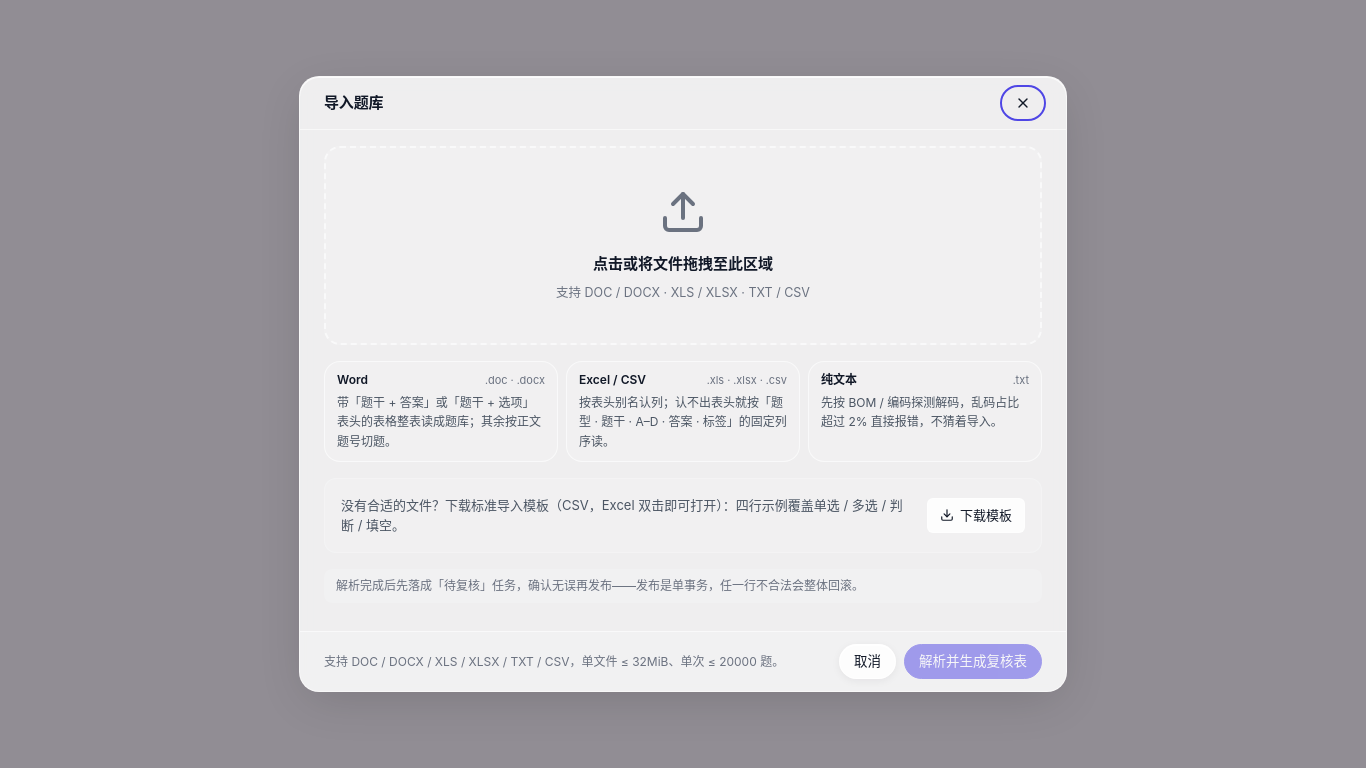
导入向导：解析 → 复核 → 发布 › 复核表按页取行，默认只看有问题
Click the button with aria-label "选择题库文件".
click(683, 212)  # box [324,146,1042,345]
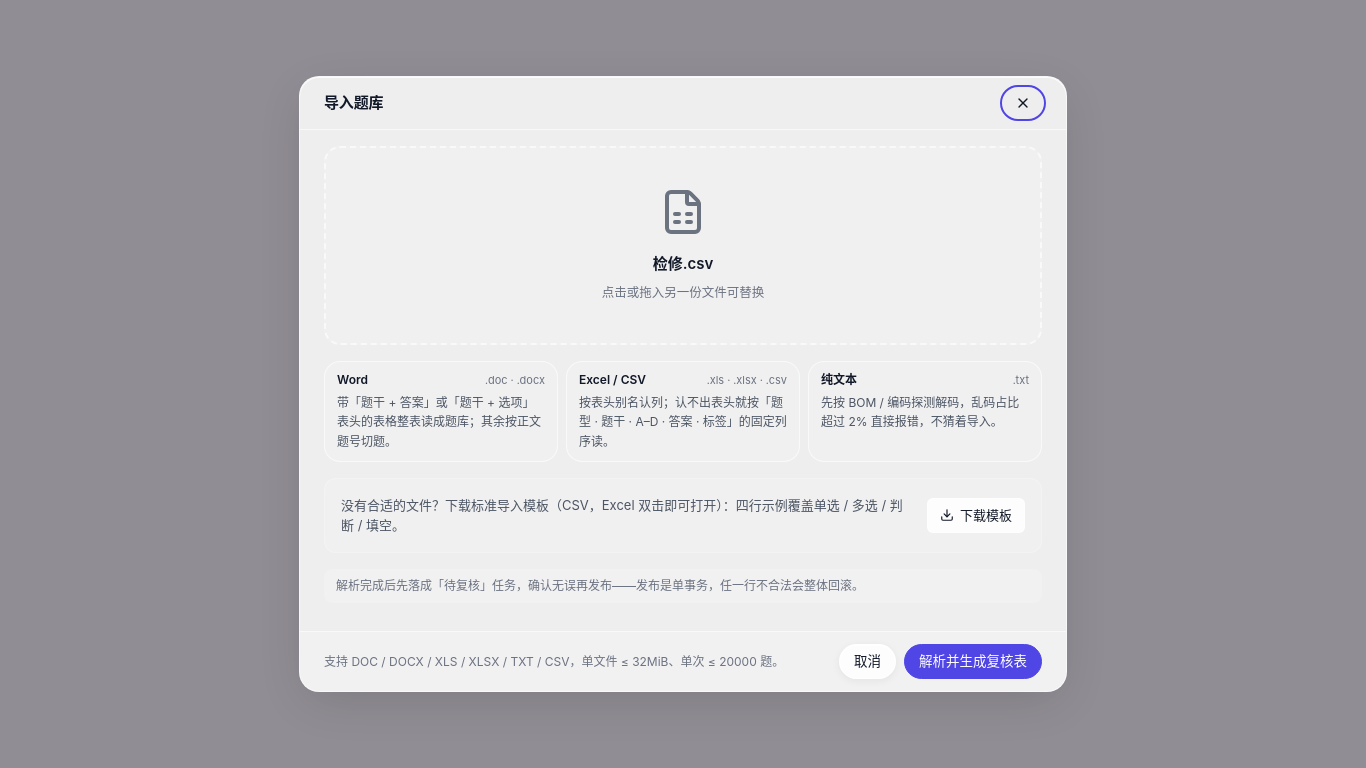
Expected: the text "检修.csv" is shown, [653,254,713,273]
Click the button "解析并生成复核表".
click(973, 662)  # box [904,644,1042,679]
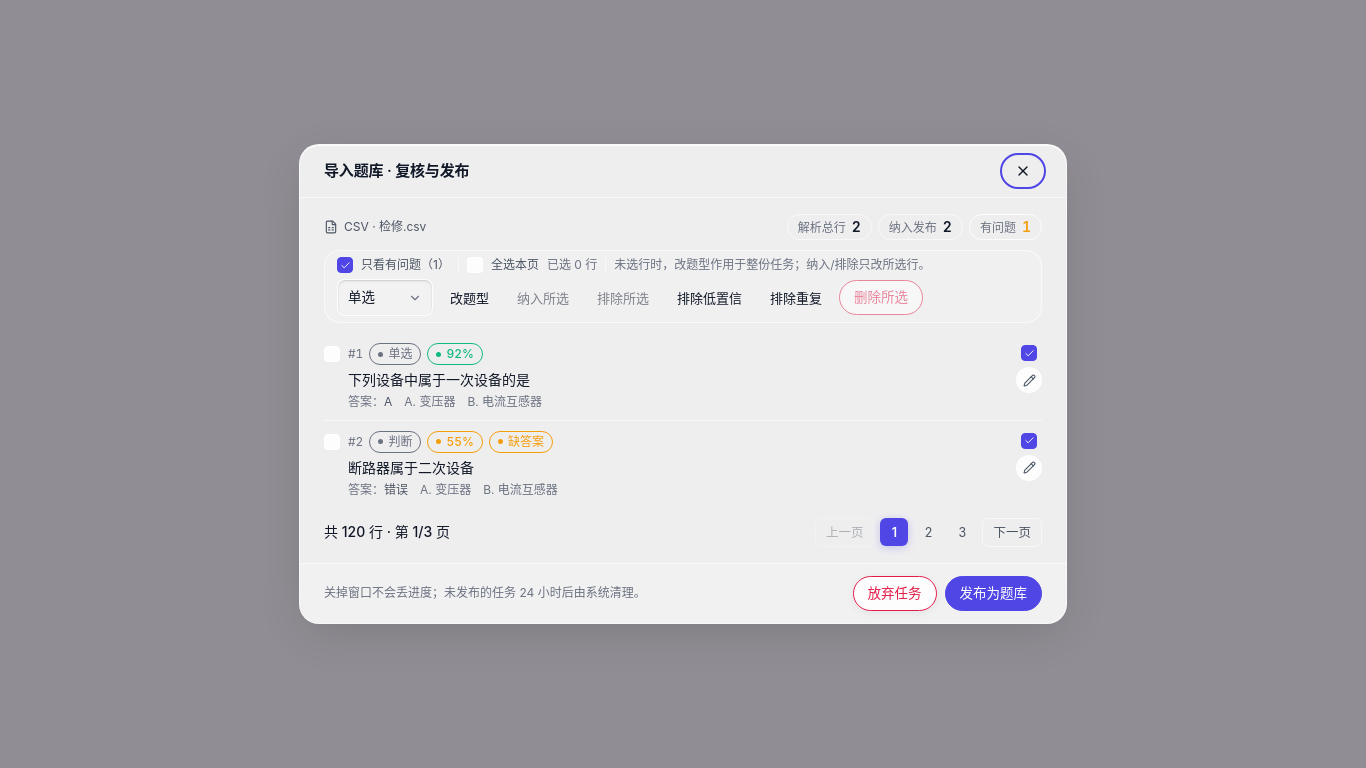
Expected: the text "解析总行" is shown, [798,220,846,236]
Expected: the navigation bar named "复核表分页" is shown, [815,518,1042,547]
Expected: the text "共 120 行 · 第 1/3 页" is shown, [324,521,450,543]
Click the button named "第 2 页".
click(928, 532)  # box [914,518,942,546]
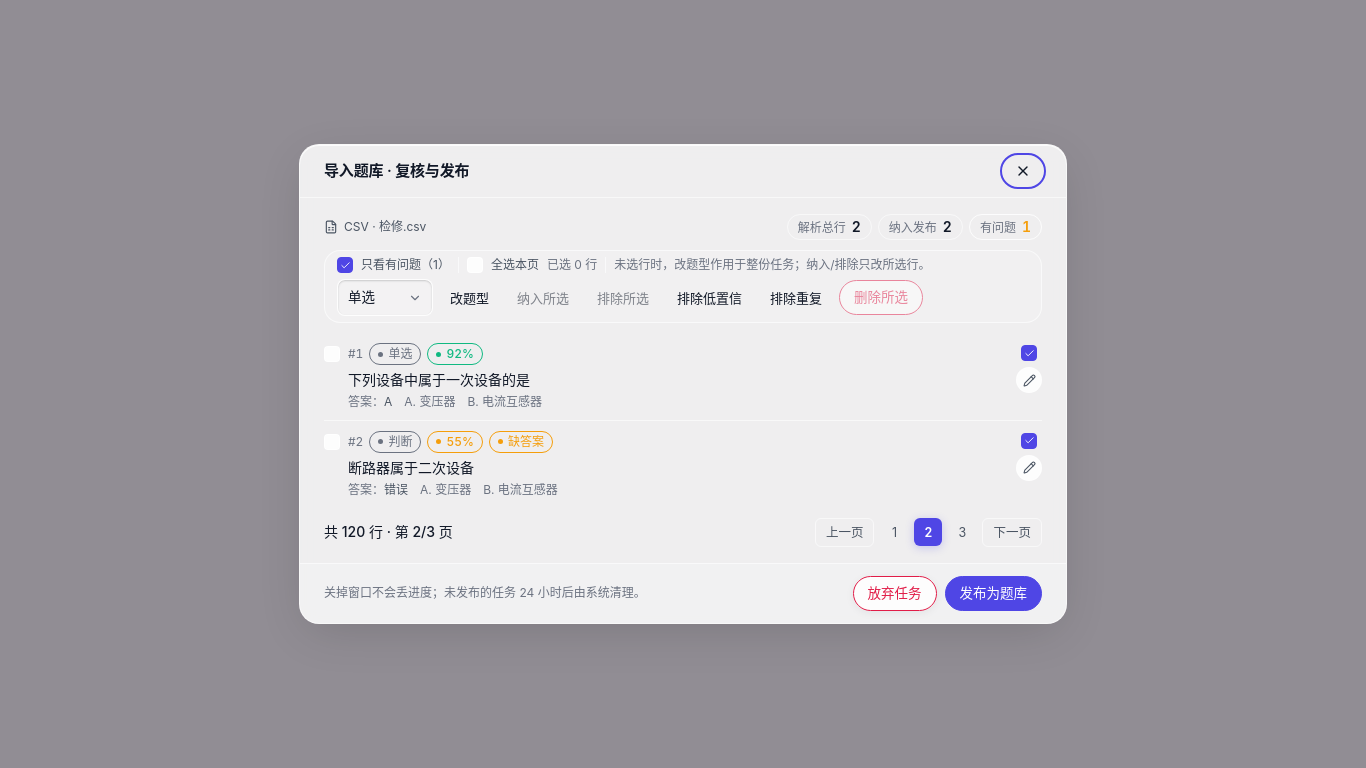
Expected: the text "共 120 行 · 第 2/3 页" is shown, [324,521,453,543]
